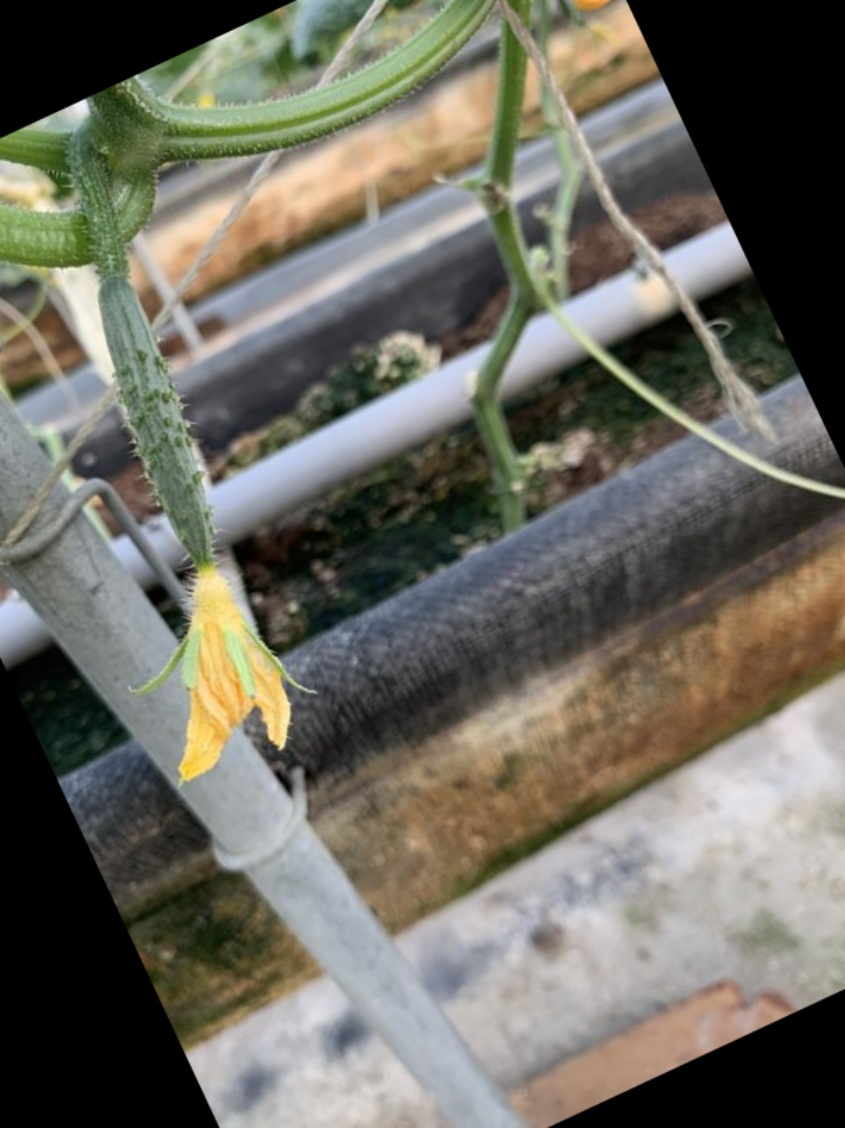bear: (72, 238, 329, 765)
